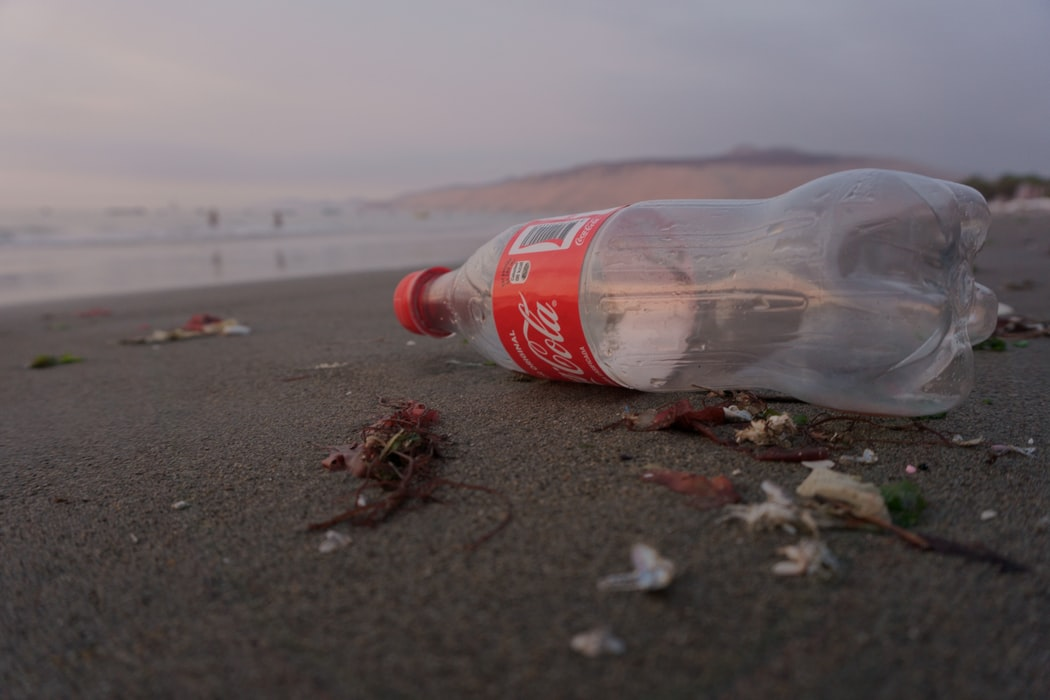plastic_bottle: (334, 102, 1042, 532)
